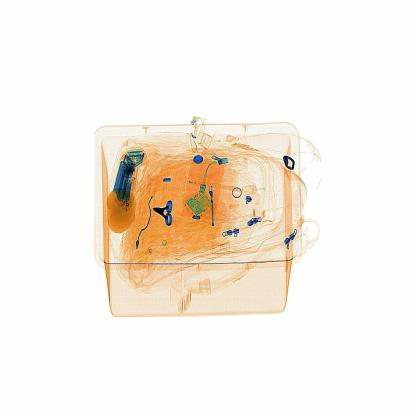gun: (149, 188, 183, 231)
